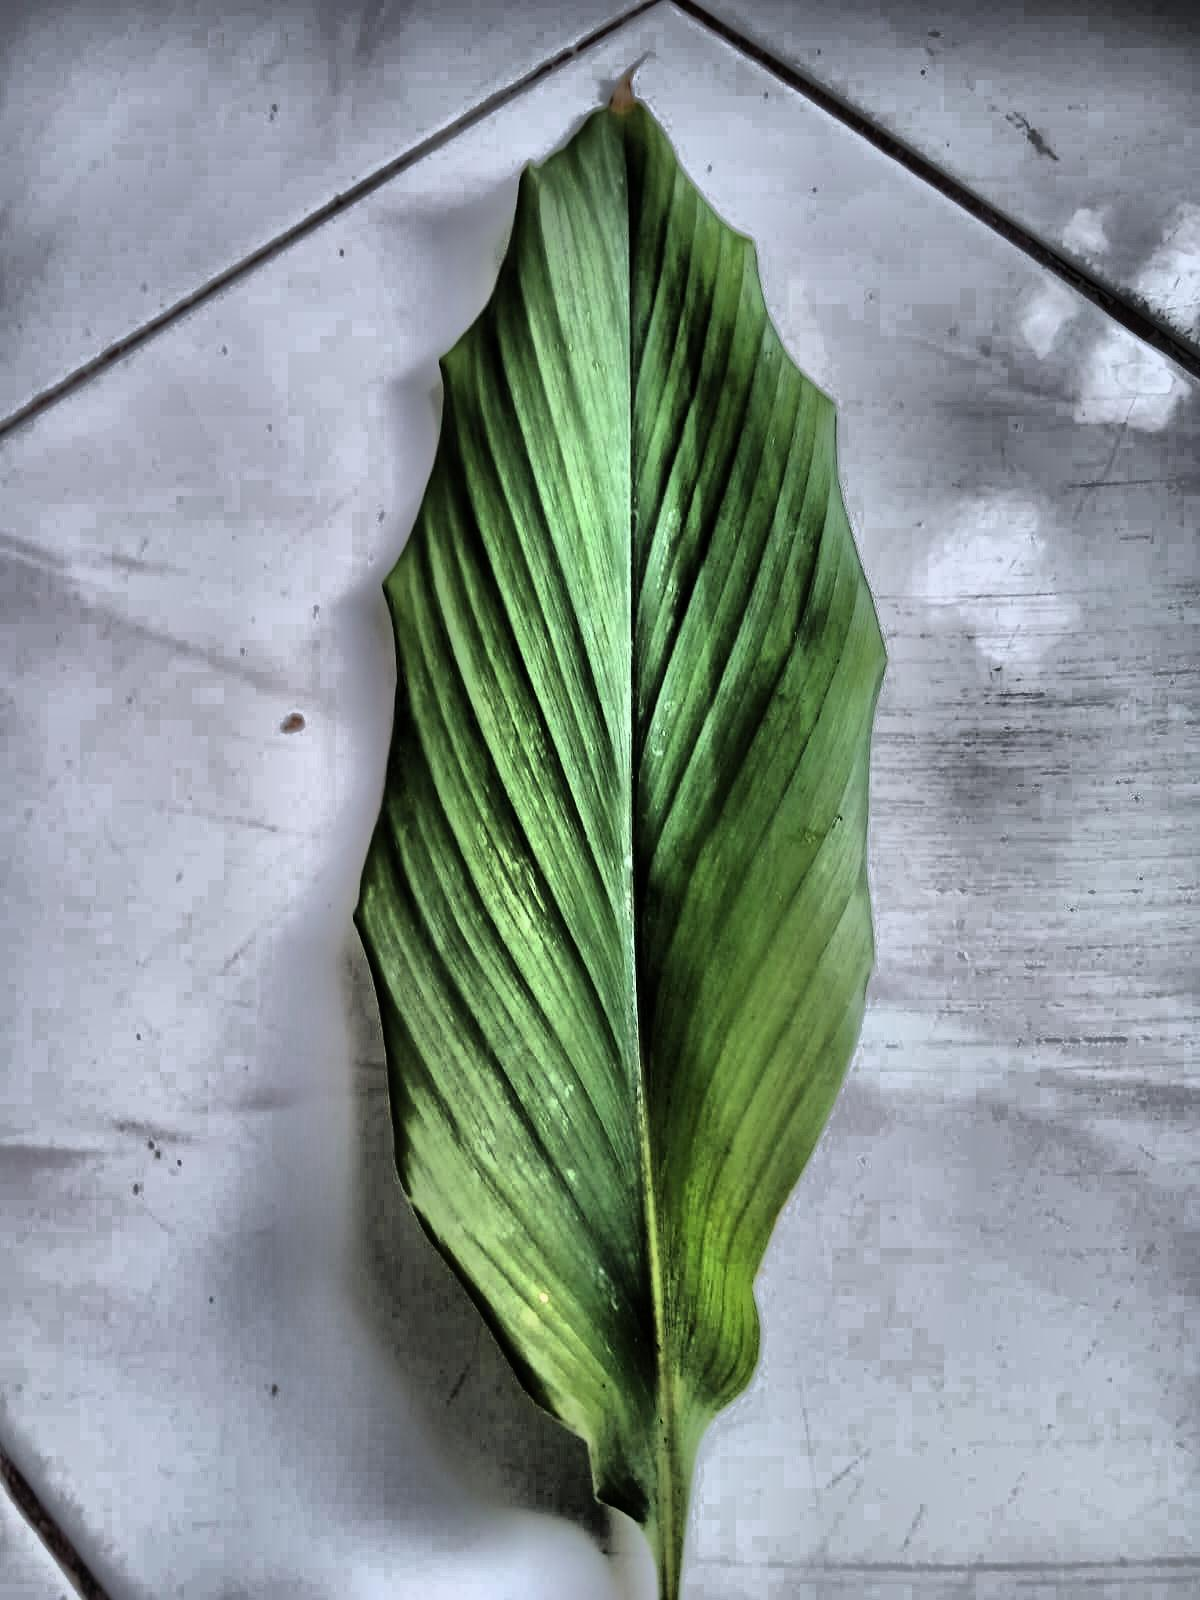daun kunyit: (357, 100, 885, 1599)
